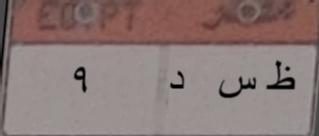9: (71, 62, 89, 95)
Thaa: (265, 56, 296, 99)
daal: (165, 65, 187, 97)
seen: (215, 69, 257, 102)
